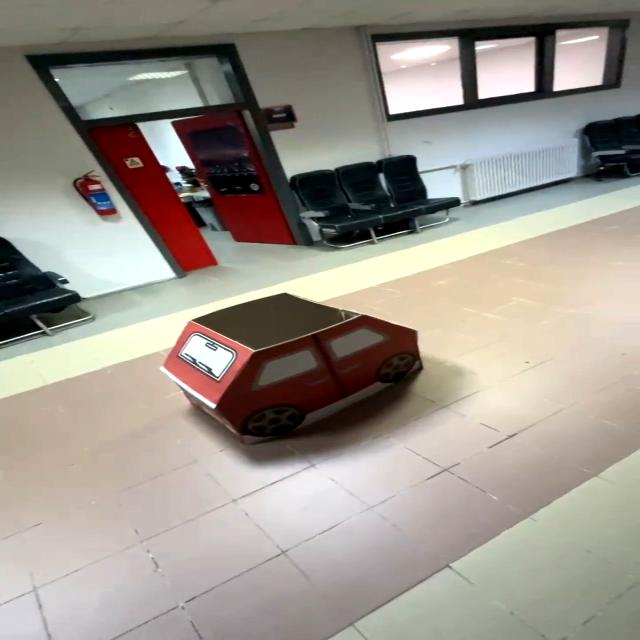red_car: (132, 283, 458, 456)
